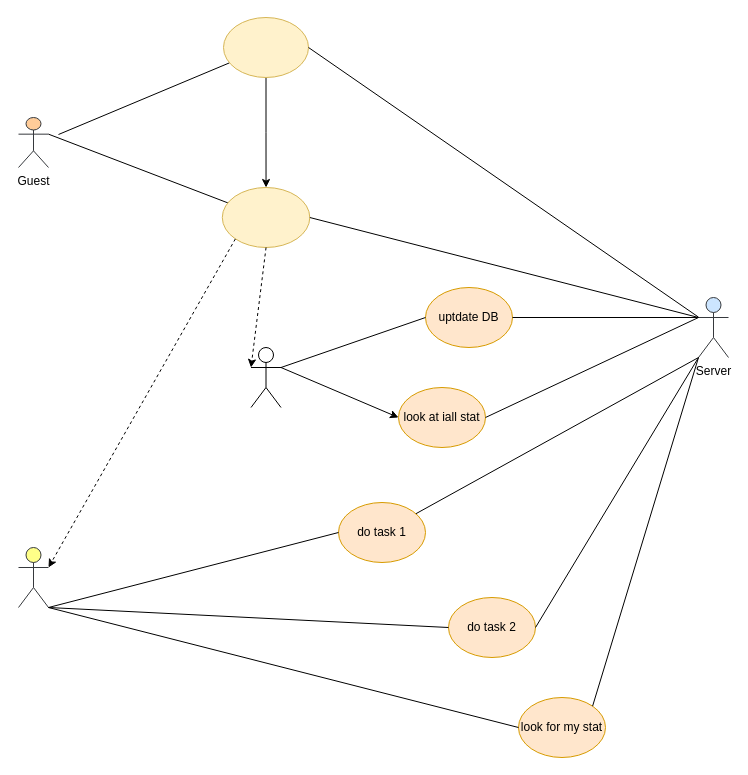
The diagram is 748 pixels wide and 775 high, and some of its shapes have lost their labels. The centre of each missing label's shape, as x and y in pixels:
"Admin" belongs at [265,377].
"Sing in" belongs at [265,217].
"Sing up" belongs at [265,47].
"User" belongs at [33,577].
